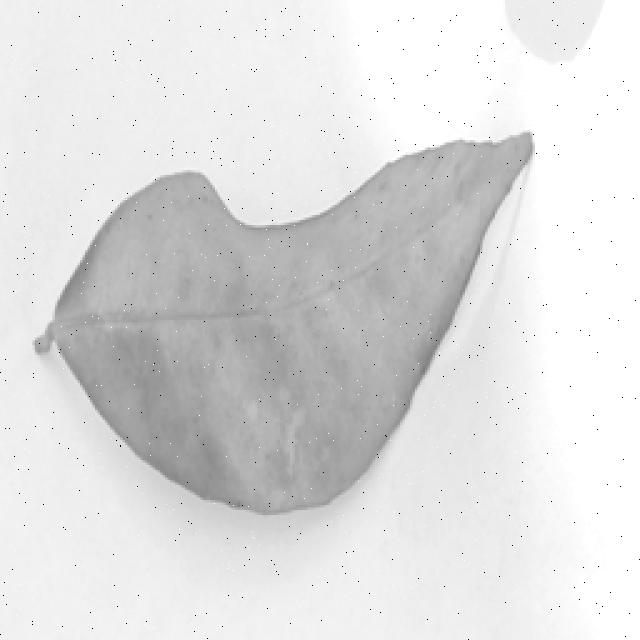greening: (22, 108, 550, 537)
